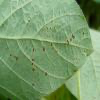Soyabean leaf: (0, 0, 94, 100)
